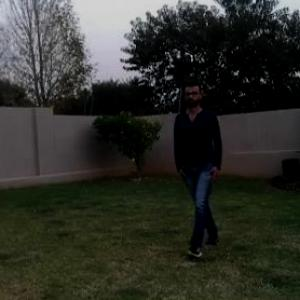follow: (178, 84, 221, 232)
